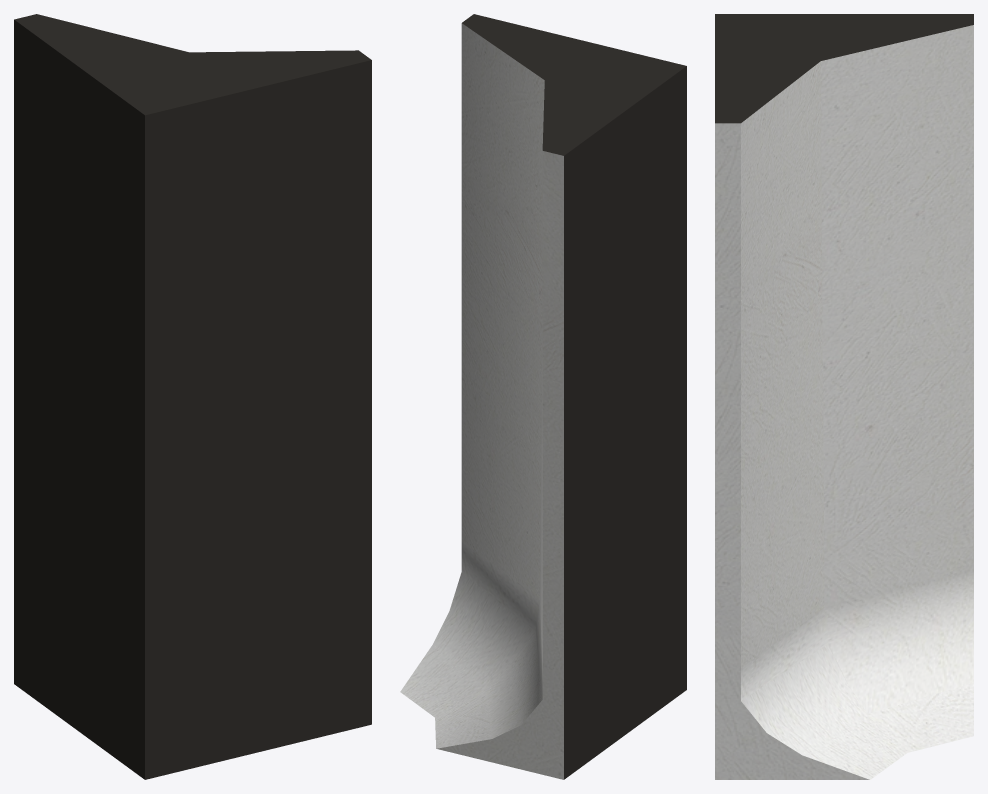
File: VPS_Stage_CNR.fbx
3 views of the same model, side by side, from view 1: azimuth 30°, elevation 25°; view 2: azimuth 150°, elevation 25°; view 3: azimuth 270°, elevation 25° (orthographic). The views are drawn at different scales.
Parts seen in each view (by area): view 1: CURVED_Wall_Corner; view 2: CURVED_Wall_Corner; view 3: CURVED_Wall_Corner.
Part boxes in pixels (<box>): CURVED_Wall_Corner: <box>14,14,371,779</box>; CURVED_Wall_Corner: <box>400,14,686,779</box>; CURVED_Wall_Corner: <box>715,14,973,779</box>.
Bounding box in the file's own units: 2.5 × 7 × 2.5.
2 materials, 1 textured.
